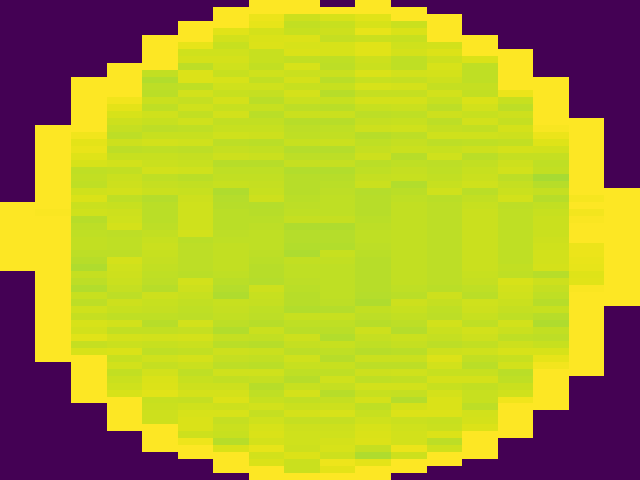sphere: (6, 2, 640, 480)
